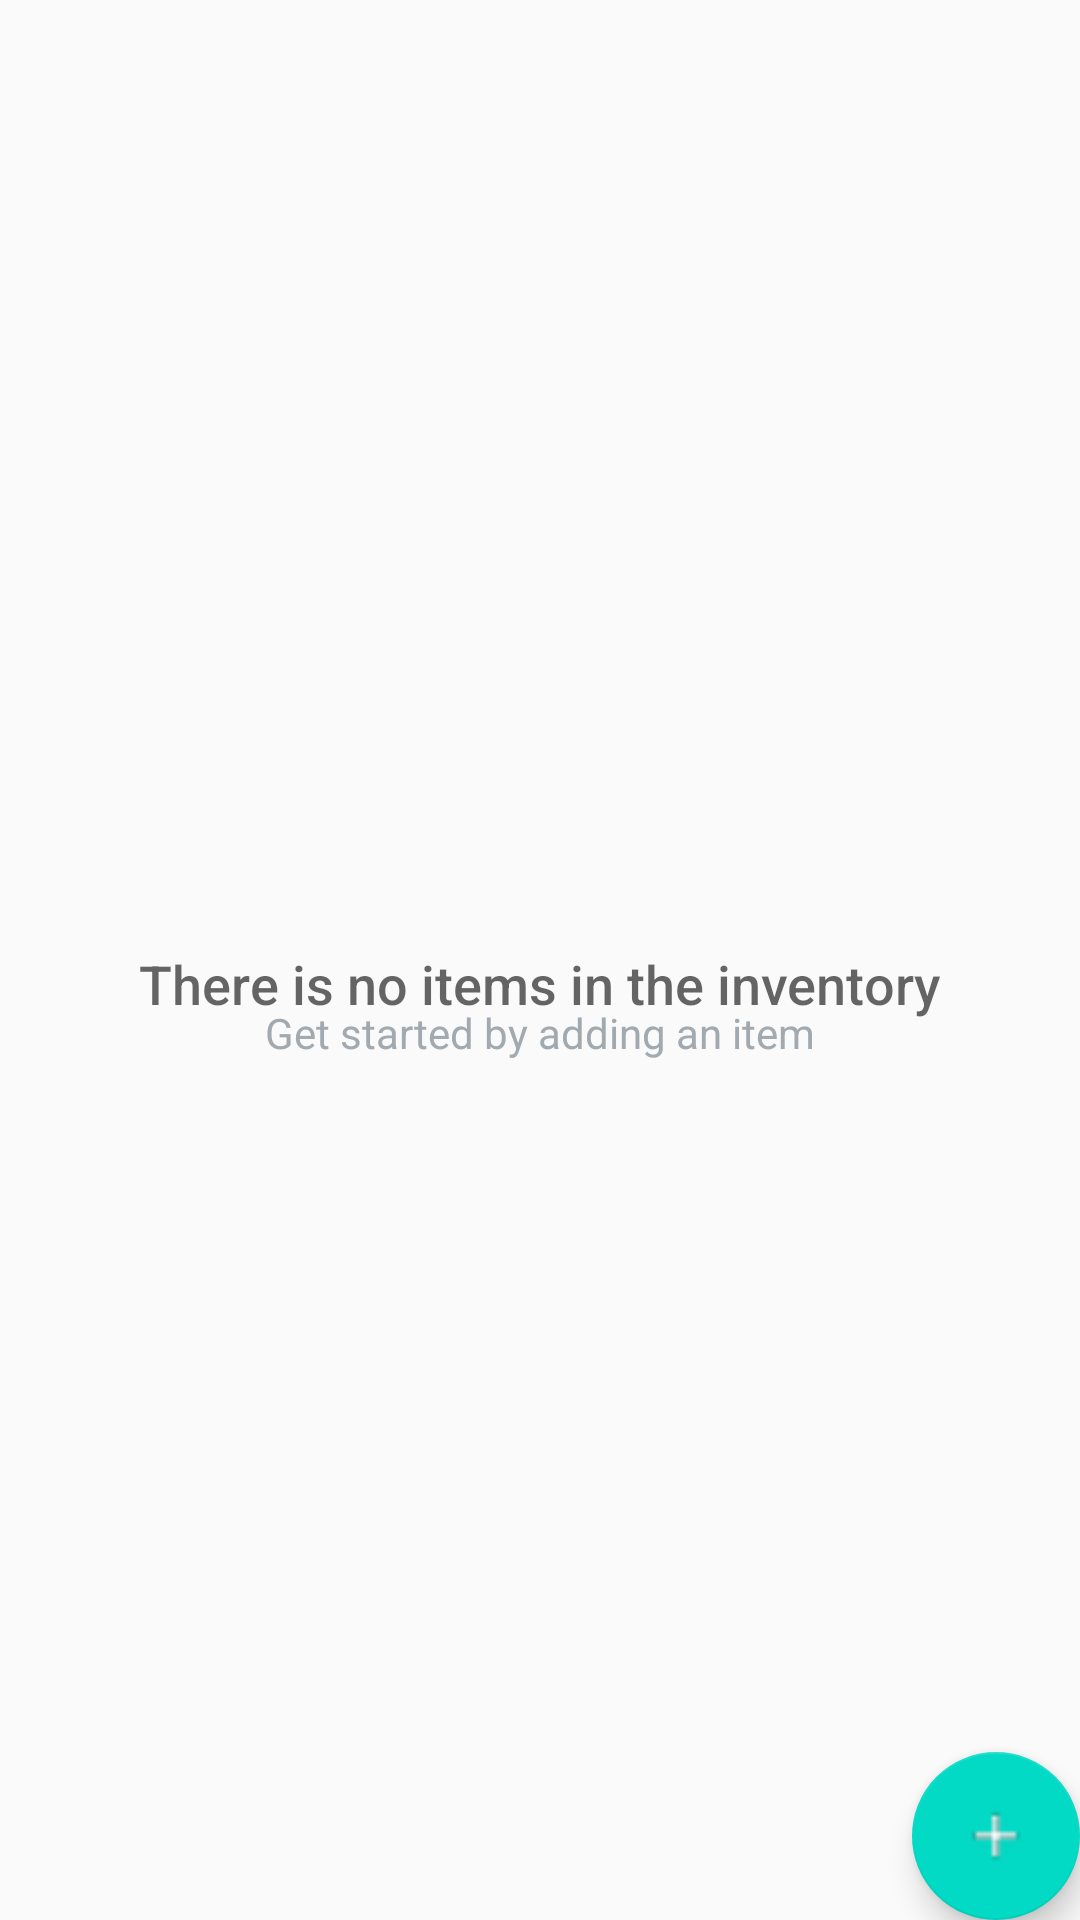

Screen size 1080w x 1920h. Icon name, then its box in pixels as (x1, y1, x2, y2):
add item: (912, 1752, 1080, 1920)
